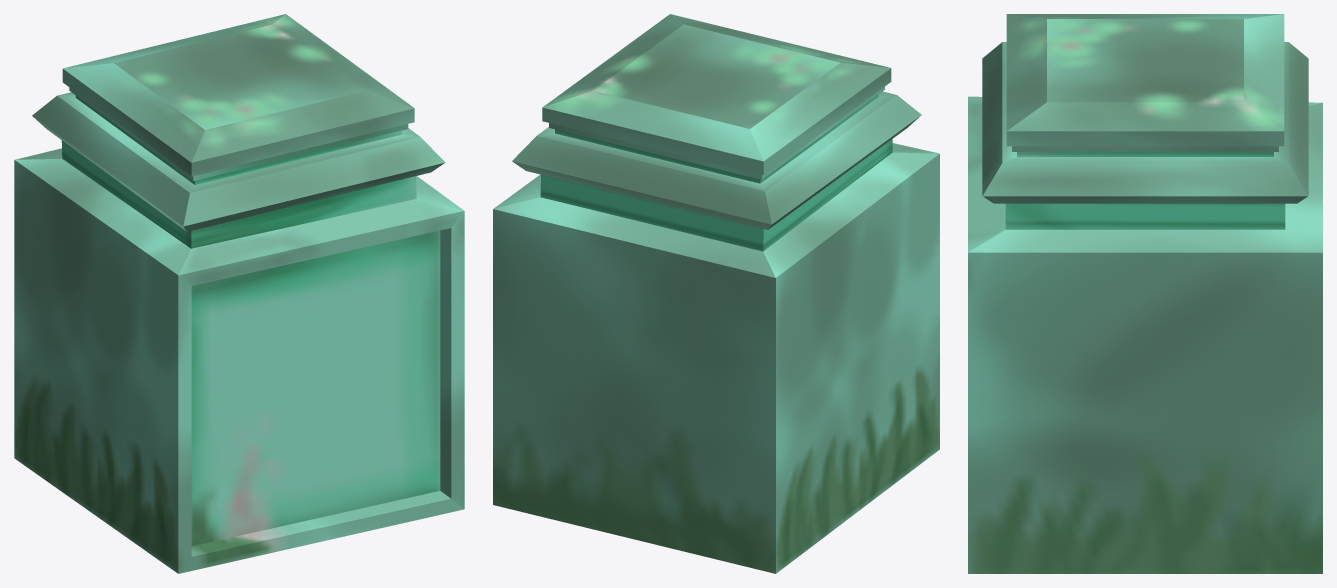
Rendered from altar1.fbx.
3 views of the same model, side by side, from view 1: azimuth 30°, elevation 25°; view 2: azimuth 150°, elevation 25°; view 3: azimuth 270°, elevation 25° (orthographic). The views are drawn at different scales.
Parts seen in each view (by area): view 1: altar; view 2: altar; view 3: altar.
Boxes of the visible parts, bbox=[...] form: altar: bbox=[14, 14, 464, 573]; altar: bbox=[493, 14, 939, 573]; altar: bbox=[968, 14, 1322, 573].
Bounding box in the file's own units: 373 × 507 × 372.
